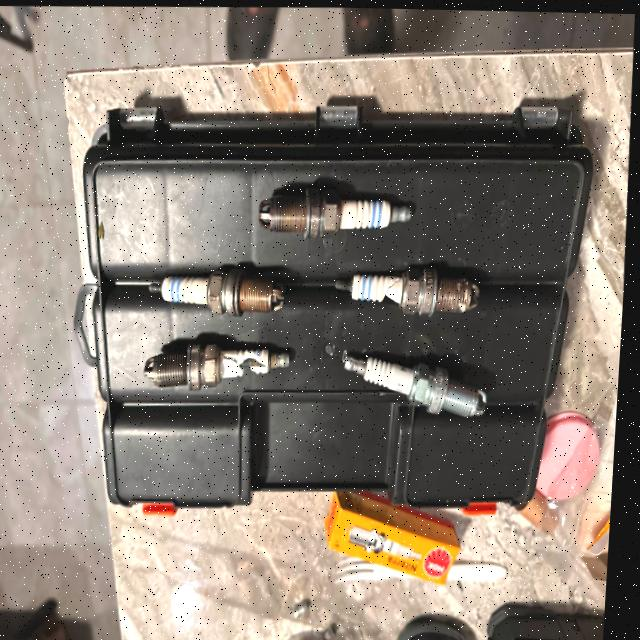damaged_spark-plug: (335, 248, 493, 329), (142, 341, 295, 397)
spark-plug: (335, 341, 504, 428), (251, 183, 421, 249), (151, 253, 291, 329)
